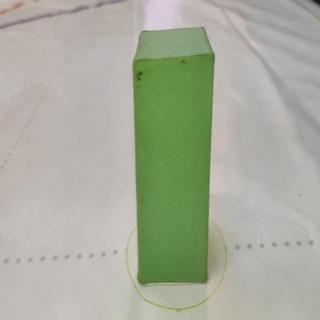greenbox: (132, 27, 215, 284)
